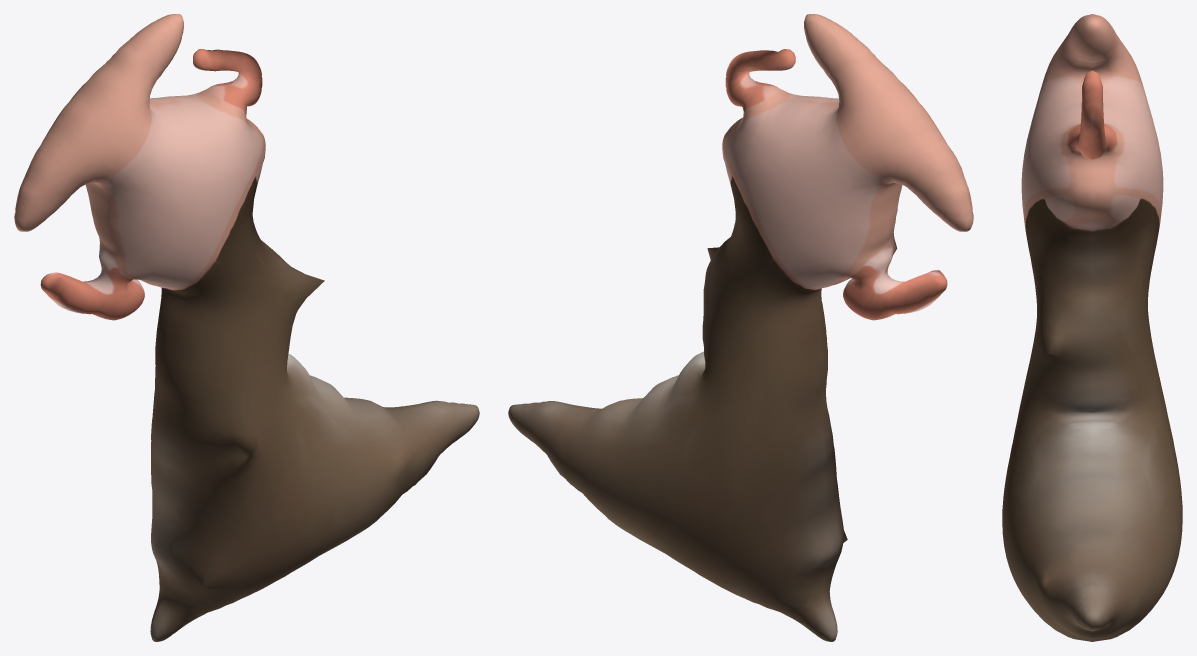
Rendered from Pinkcoffee17.7ad98ffe.glb.
3 renders of one model, left to right at view 1: azimuth 30°, elevation 25°; view 2: azimuth 150°, elevation 25°; view 3: azimuth 270°, elevation 25°, orthographic. The views are drawn at different scales.
Size of the model in its own units: 5.71 by 7.34 by 1.98.
Materials: 1 (1 with a texture image).
